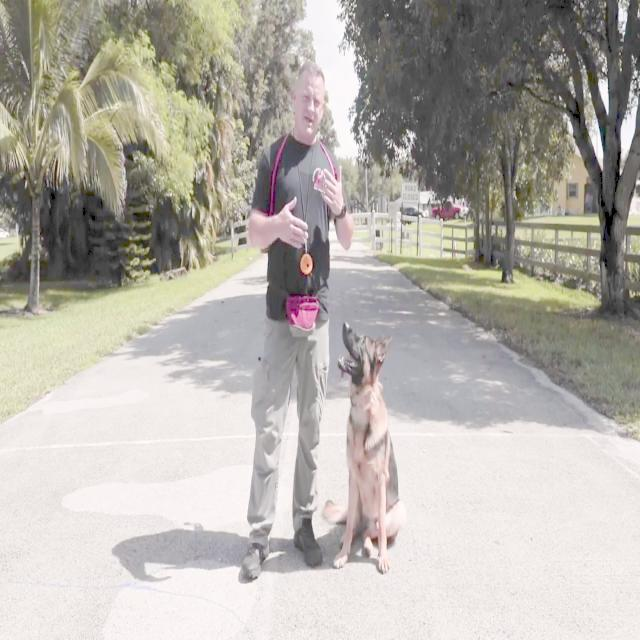Unleashed_Dog: (277, 309, 408, 575)
